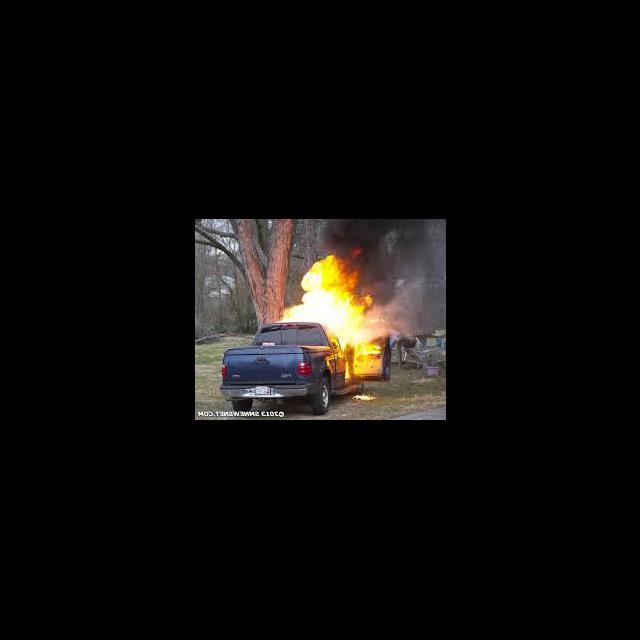Fire: (278, 255, 374, 328), (324, 327, 378, 376), (351, 392, 376, 402)
